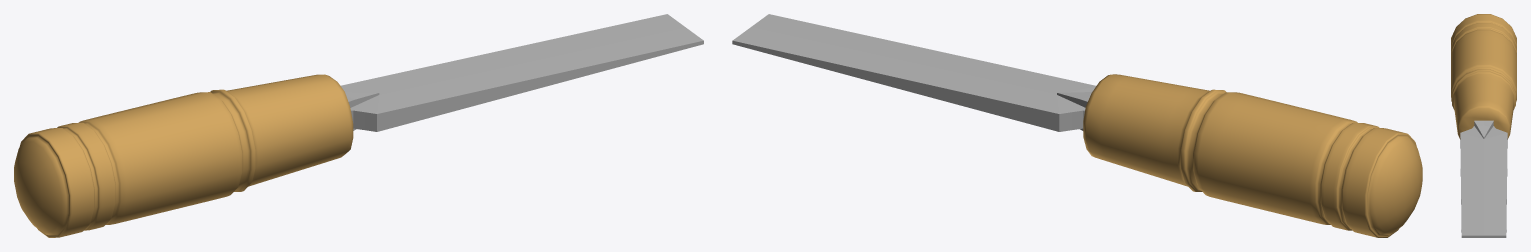
Rendered from Chisel.fbx.
The picture shows the model from 3 angles, left to right: view 1: azimuth 30°, elevation 25°; view 2: azimuth 150°, elevation 25°; view 3: azimuth 270°, elevation 25°; orthographic projection. The views are drawn at different scales.
Parts seen in each view (by area): view 1: Chisel.001; view 2: Chisel.001; view 3: Chisel.001.
Boxes of the visible parts, bbox=[...] form: Chisel.001: bbox=[14, 14, 703, 237]; Chisel.001: bbox=[732, 14, 1422, 237]; Chisel.001: bbox=[1451, 14, 1516, 237].
Size of the model in its own units: 27.42 by 3.83 by 3.83.
